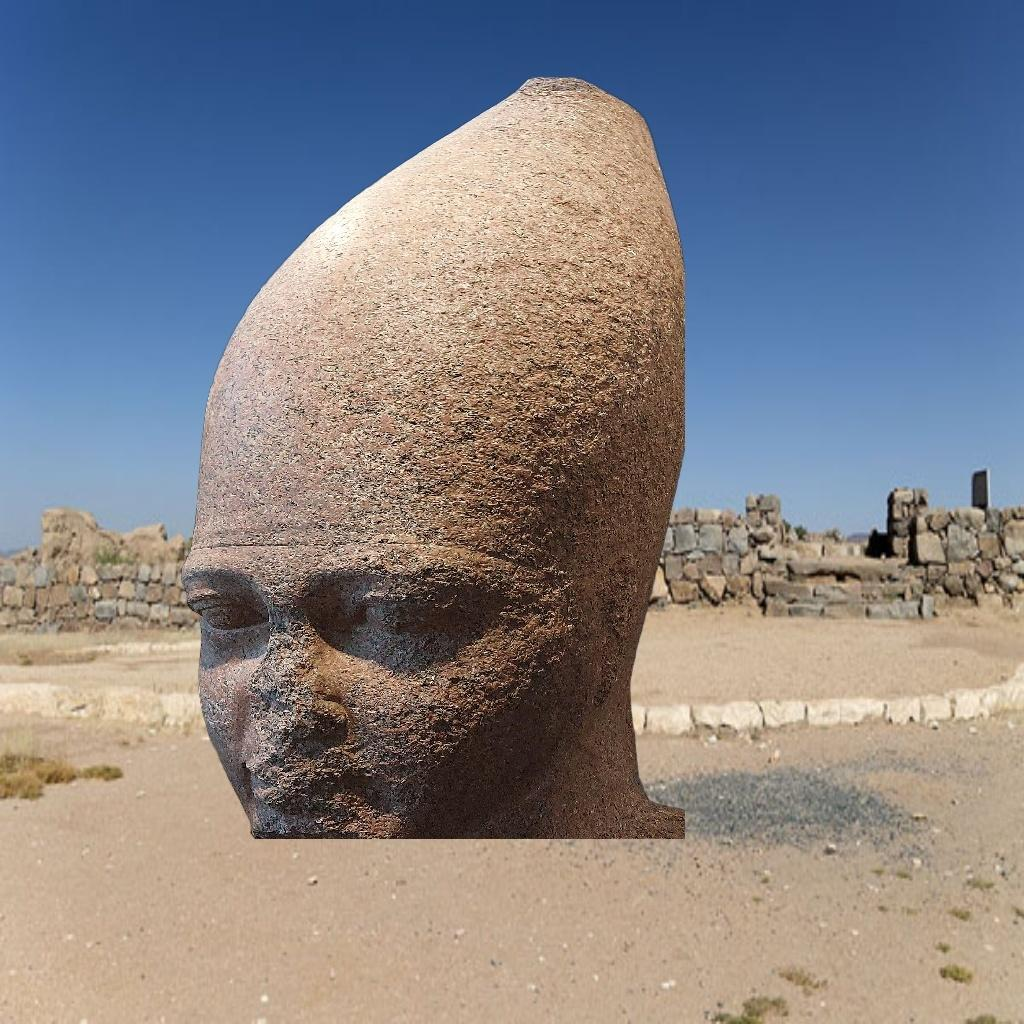Clossal head of Senwosret 1: (180, 78, 685, 840)
